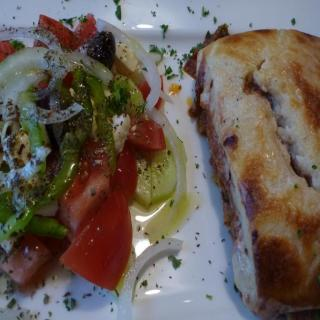Cucumber: (105, 74, 143, 110), (151, 149, 177, 200)
Salad: (0, 7, 190, 306)
